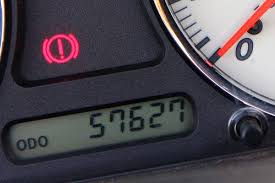Digital_Meter: (13, 105, 198, 140)
